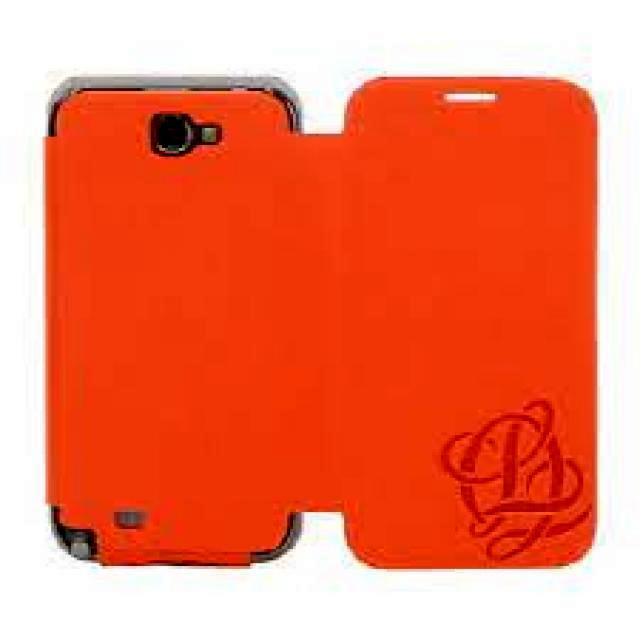lens_back: (138, 103, 206, 163)
phone: (41, 71, 307, 572)
